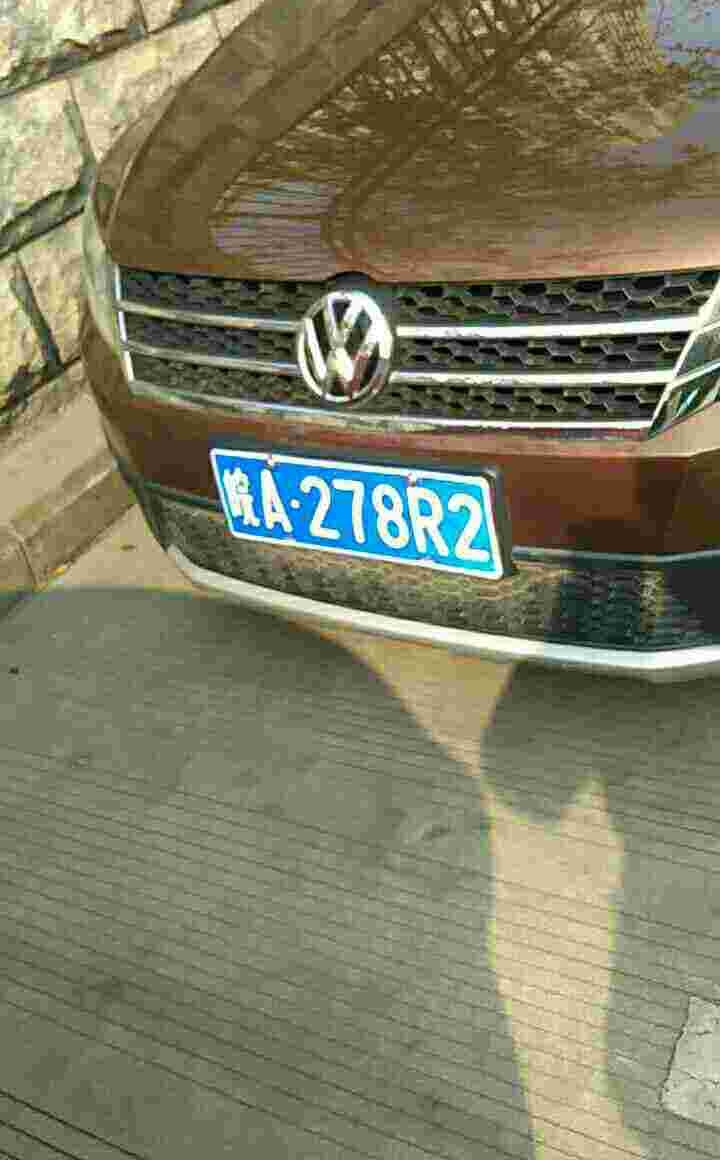license_plate: (225, 449, 507, 581)
